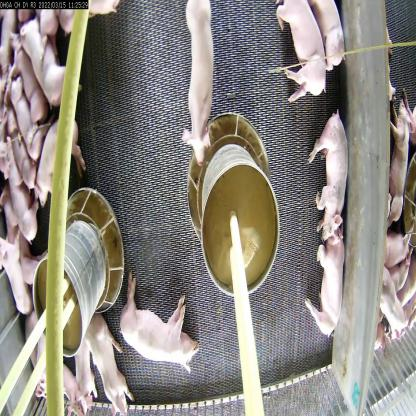Pig: (115, 268, 211, 380), (180, 1, 228, 167), (272, 0, 330, 116), (79, 306, 138, 416), (304, 216, 353, 345), (18, 11, 74, 117), (305, 105, 348, 243), (32, 113, 89, 214), (4, 131, 44, 246), (0, 229, 42, 326), (8, 32, 50, 124), (20, 306, 54, 416), (379, 269, 416, 354), (7, 74, 42, 162), (307, 0, 344, 81), (388, 98, 410, 229), (5, 112, 40, 194), (50, 348, 87, 416), (70, 335, 100, 416), (380, 227, 413, 279)
